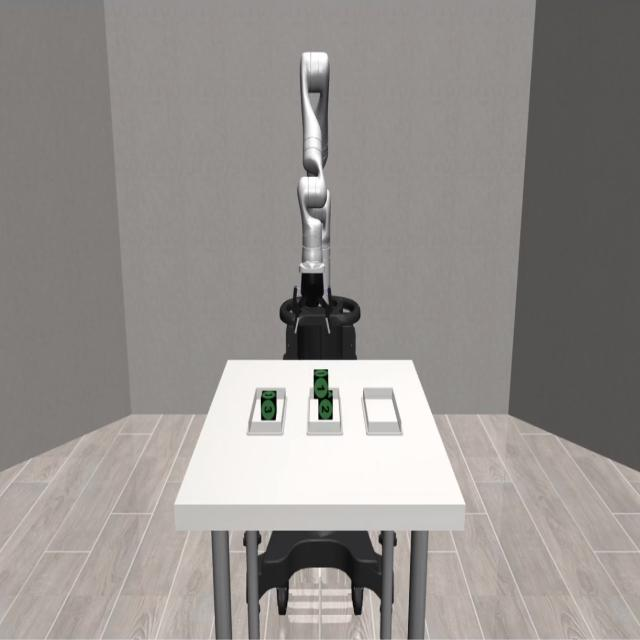cube1: (312, 367, 329, 401)
cube2: (319, 392, 333, 422)
cube3: (261, 388, 278, 419)
